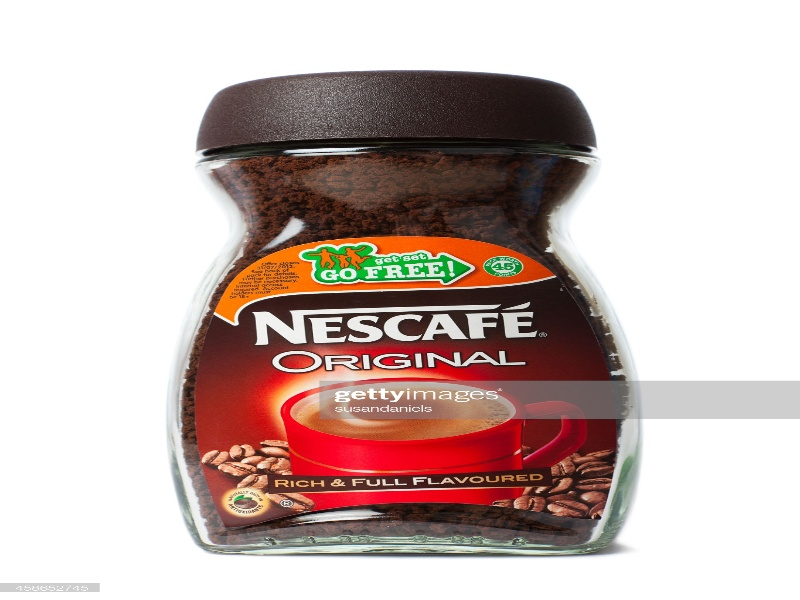nescafe-classic/gold-med: (168, 72, 637, 564)
